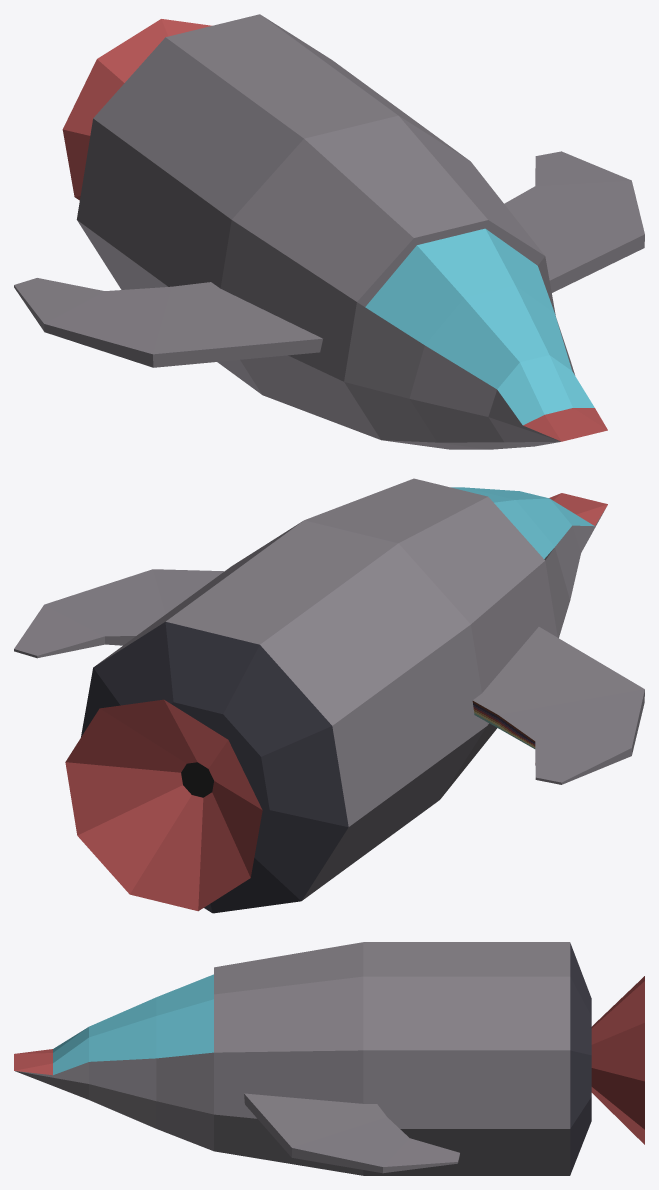
File: spaceship_meme.glb
3 renders of one model, top to bottom at view 1: azimuth 30°, elevation 25°; view 2: azimuth 150°, elevation 25°; view 3: azimuth 270°, elevation 25°, orthographic. The views are drawn at different scales.
Visible parts, largest first — view 1: Cube; view 2: Cube; view 3: Cube.
Part boxes in pixels (<box>): Cube: <box>14,14,644,449</box>; Cube: <box>14,478,644,913</box>; Cube: <box>14,942,644,1175</box>.
Size of the model in its own units: 8.51 by 3.88 by 10.6.
1 material, 1 textured.
